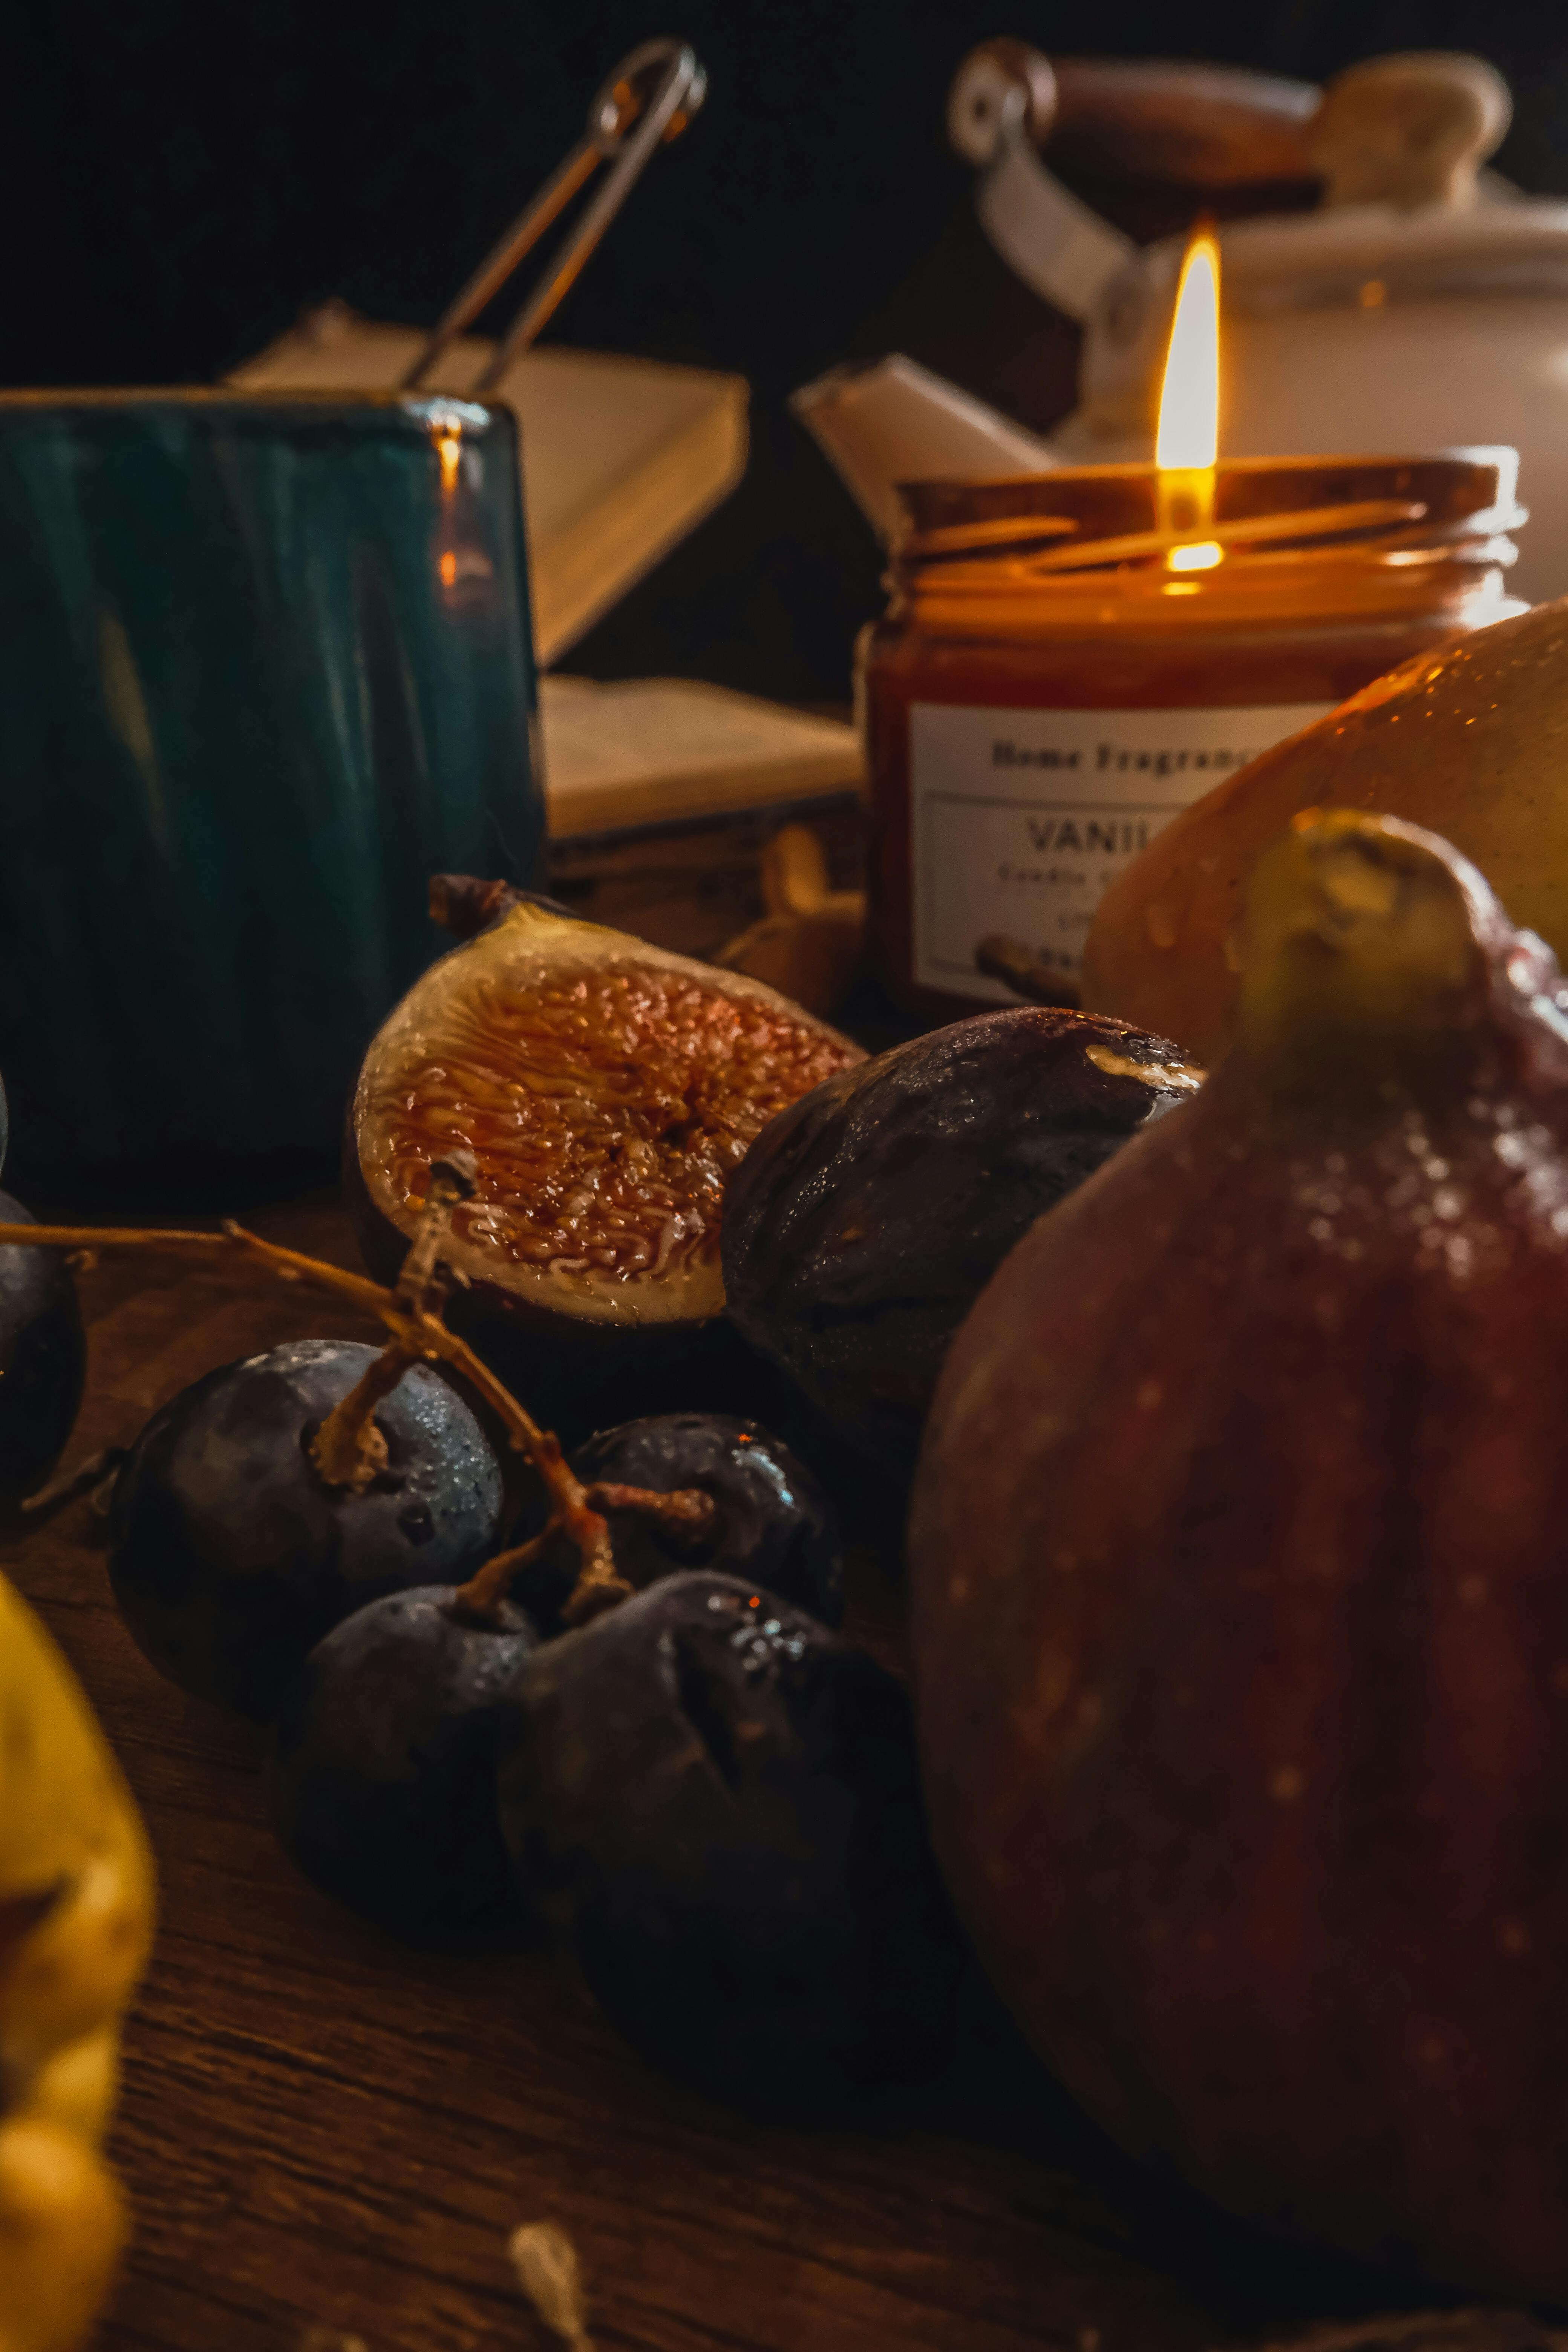Fire: (1139, 210, 1241, 474)
